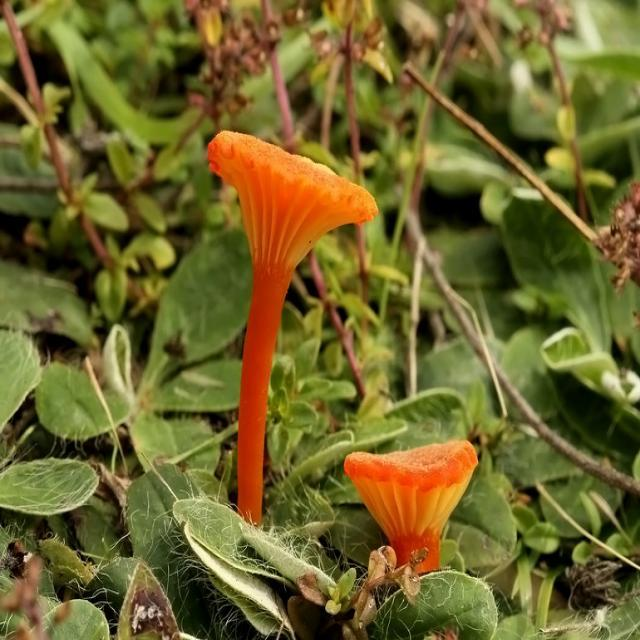Cantharellus cibarius: (206, 125, 377, 520), (343, 442, 480, 569)
